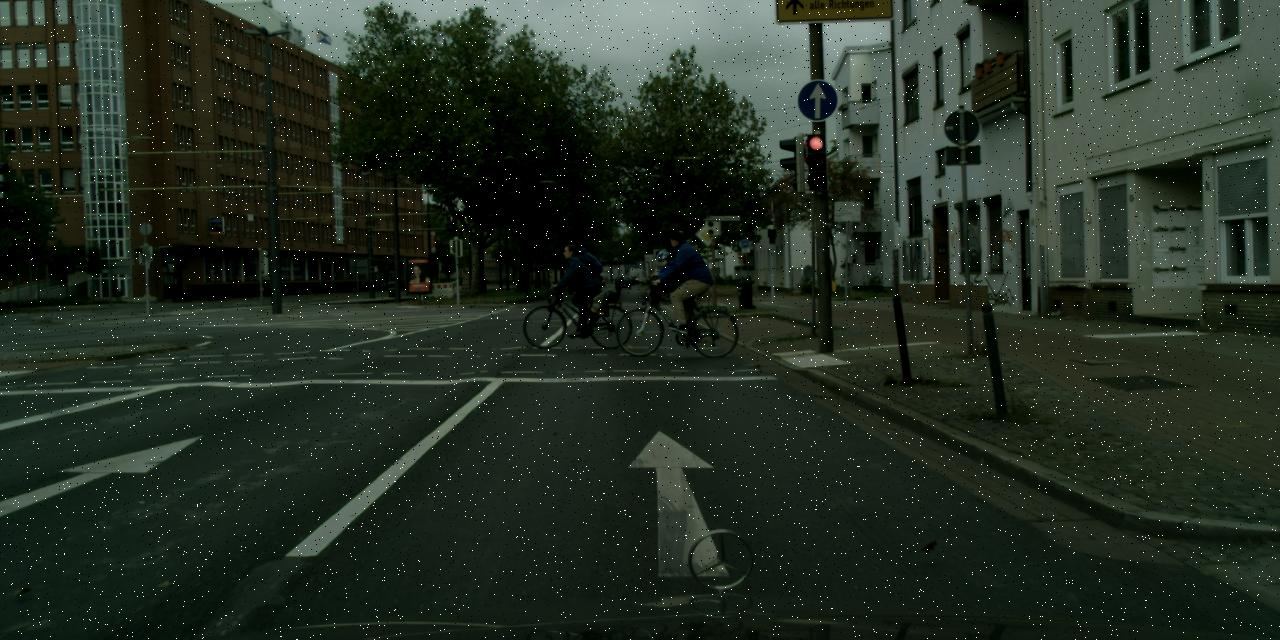ped: (661, 231, 703, 336), (562, 243, 594, 323), (648, 250, 669, 304)
